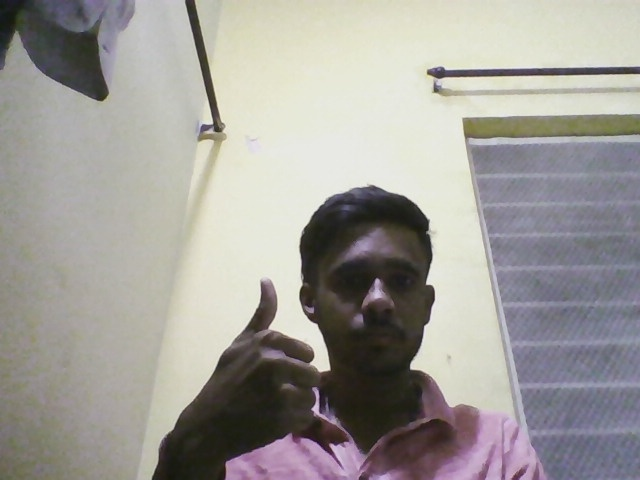yes: (177, 268, 325, 451)
